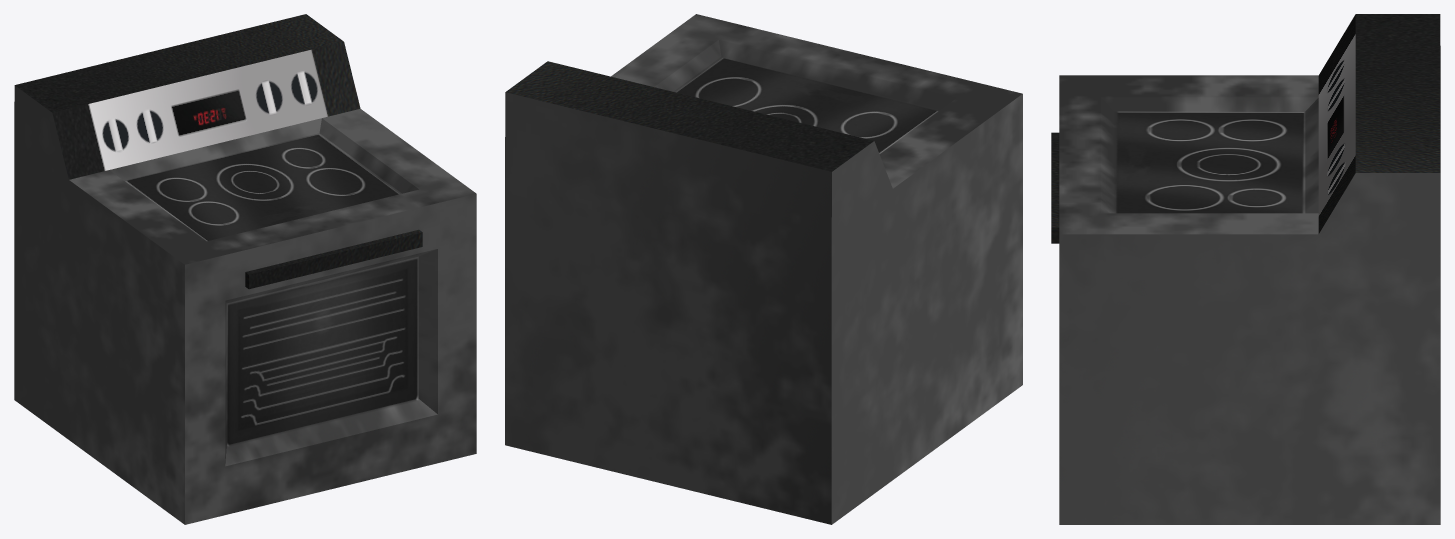
File: Stove.fbx
3 views of the same model, side by side, from view 1: azimuth 30°, elevation 25°; view 2: azimuth 150°, elevation 25°; view 3: azimuth 270°, elevation 25° (orthographic). The views are drawn at different scales.
Visible parts, largest first — view 1: pCube38; view 2: pCube38; view 3: pCube38.
Part boxes in pixels (x1=…): pCube38: x1=14, y1=14, x2=476, y2=524; pCube38: x1=505, y1=14, x2=1022, y2=524; pCube38: x1=1051, y1=14, x2=1440, y2=524.
Bounding box in the file's own units: 3.69 × 3.81 × 3.82.
Materials: 1 (1 with a texture image).
